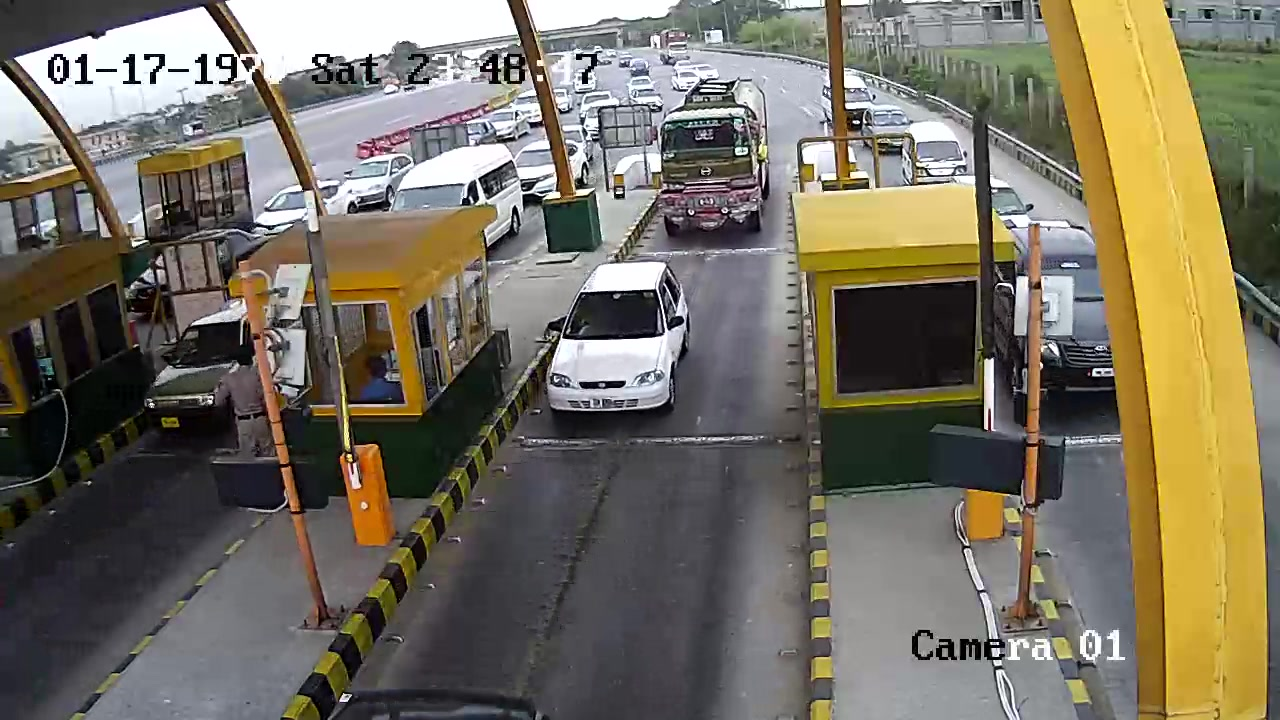F1: (539, 250, 700, 429)
